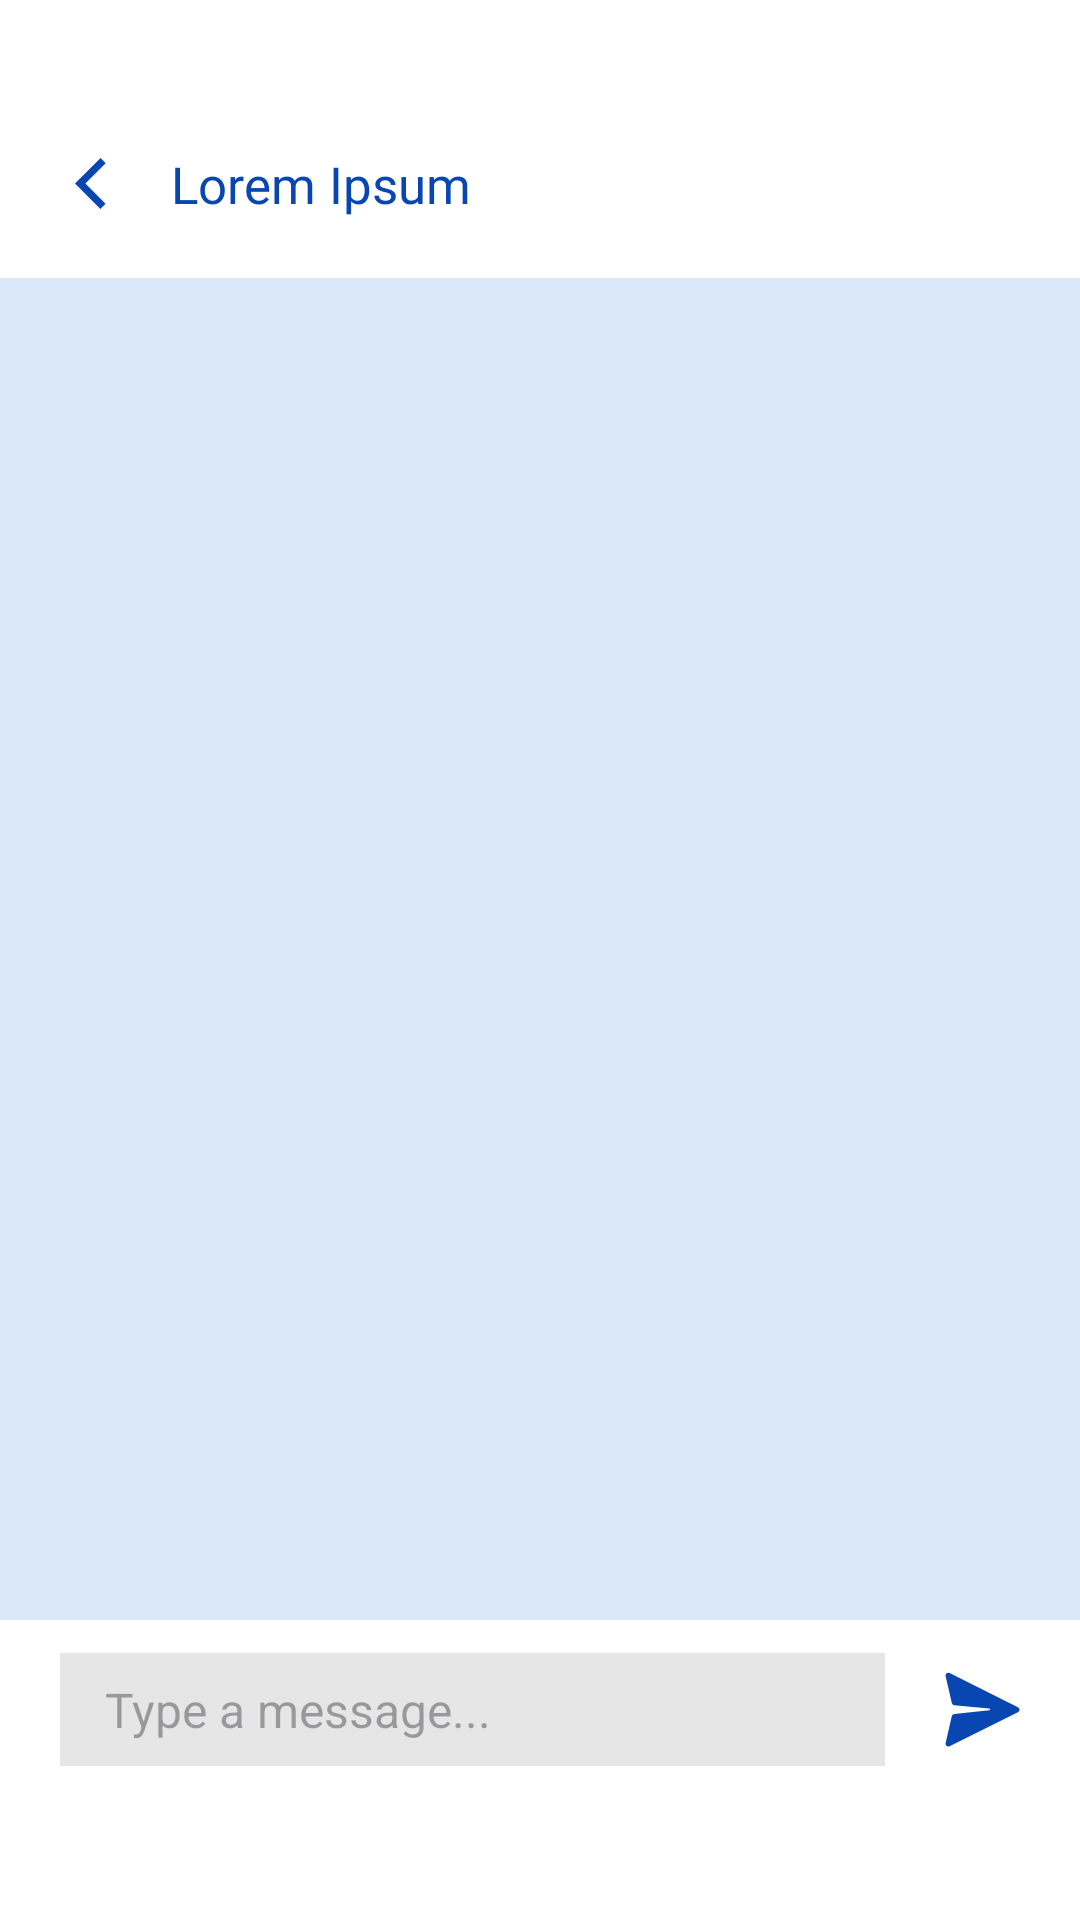

Where to tap for icons on this 1080 × 1920 app screen, as point (x, y):
return: point (90, 183)
send: point (982, 1709)
